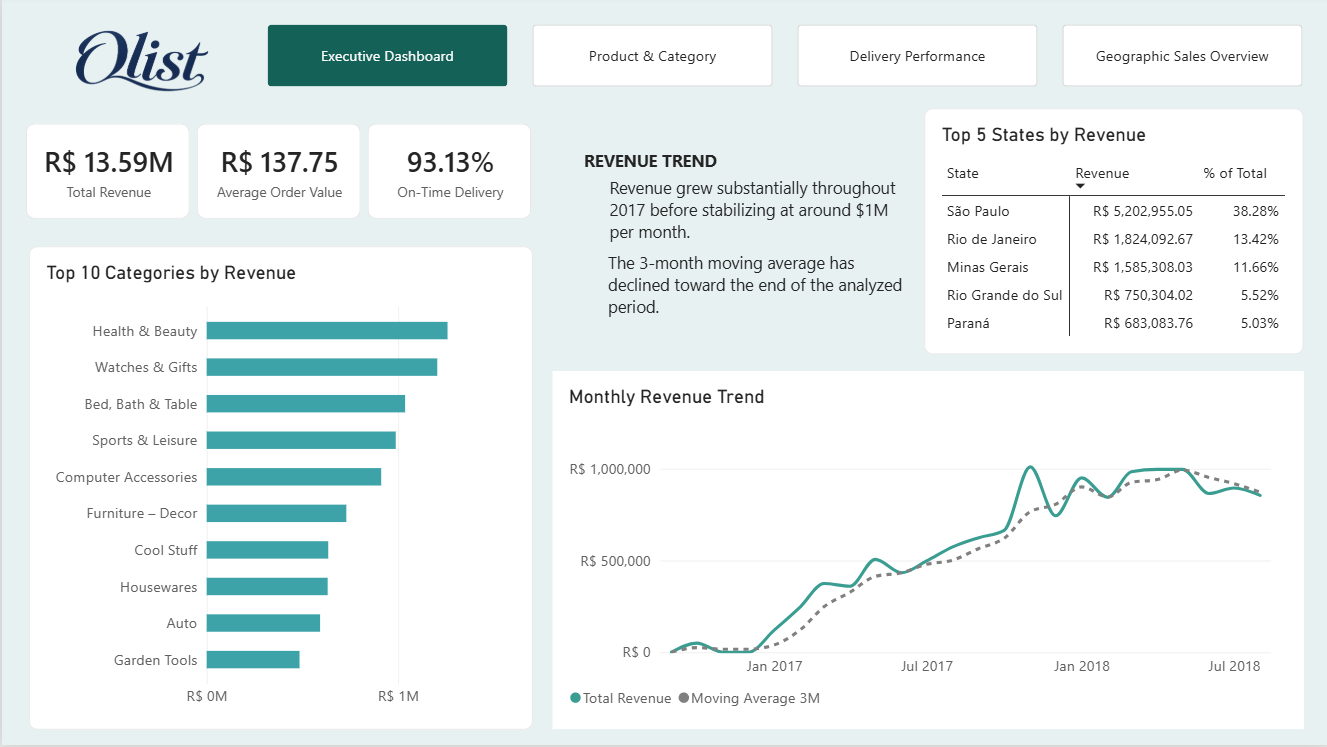

What the dashboard file says about the page in this screenshot:
{"tool":"powerbi","page":{"name":"Executive Dashboard","canvas":[1280,720],"ordinal":0},"visuals":[{"type":"image","box":[22.8,3.7,216.3,105.7],"z":0},{"type":"textbox","box":[561.8,144.7,319.7,26.3],"z":1000},{"type":"lineChart","title":"Monthly Revenue Trend","fields":{"Category":["calendar.Start of Month"],"Y":["_measures.Total Revenue (Chart Version)","_measures.3 Month Moving Average"]},"box":[531.5,359.3,725.7,345.7],"z":2000},{"type":"textbox","box":[544.2,171.2,337.2,73.1],"z":3000},{"type":"cardVisual","fields":{"Data":["_measures.Total Revenue","_measures.Average Order Value","_measures.On-Time Delivery Rate"]},"box":[22.8,120.4,489.6,92.7],"z":4000},{"type":"textbox","box":[544.2,244.2,338.3,70.8],"z":5000},{"type":"clusteredBarChart","title":"Top 10 Categories by Revenue","fields":{"Category":["product_category_name_translation.product_category_name_english_clean"],"Y":["_measures.Total Revenue"]},"box":[26,239.1,486.3,466.8],"z":6000},{"type":"pivotTable","title":"Top 5 States by Revenue","fields":{"Rows":["customers.State Name"],"Values":["_measures.Total Revenue","_measures.% of Total Revenue by State"]},"box":[891.3,105.7,366,237.5],"z":7000},{"type":"pageNavigator","box":[257,24.4,1000.3,60.2],"z":8000}]}

Visuals, with their boxes in screenshot pixels (x1, y1, x2, y2), scaled from the page's 1280x720 canvas onto the 1327x747 screenshot:
image: Rect(24, 4, 248, 114)
textbox: Rect(582, 150, 914, 177)
"Monthly Revenue Trend" lineChart: Rect(551, 373, 1303, 731)
textbox: Rect(564, 178, 914, 253)
cardVisual - _measures.Total Revenue x _measures.Average Order Value: Rect(24, 125, 531, 221)
textbox: Rect(564, 253, 915, 327)
"Top 10 Categories by Revenue" clusteredBarChart: Rect(27, 248, 531, 732)
"Top 5 States by Revenue" pivotTable: Rect(924, 110, 1303, 356)
pageNavigator: Rect(266, 25, 1303, 88)
